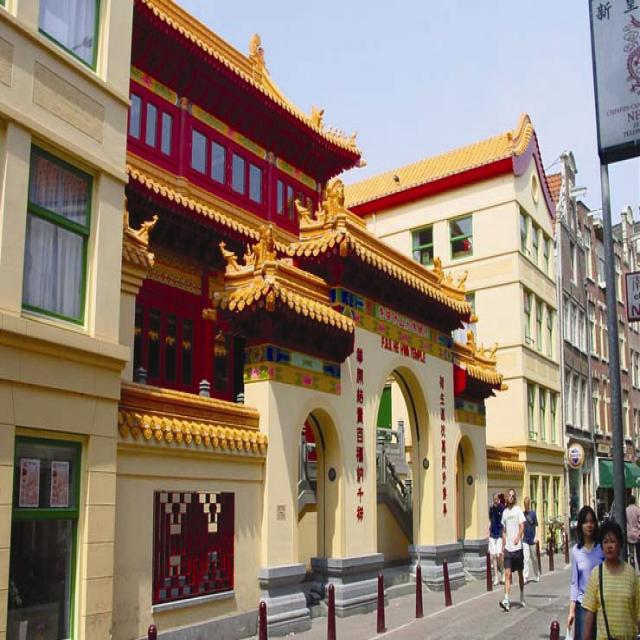body: (582, 517, 639, 639), (564, 503, 607, 640), (497, 486, 527, 614), (486, 492, 507, 588), (520, 496, 541, 586), (625, 494, 640, 572)
